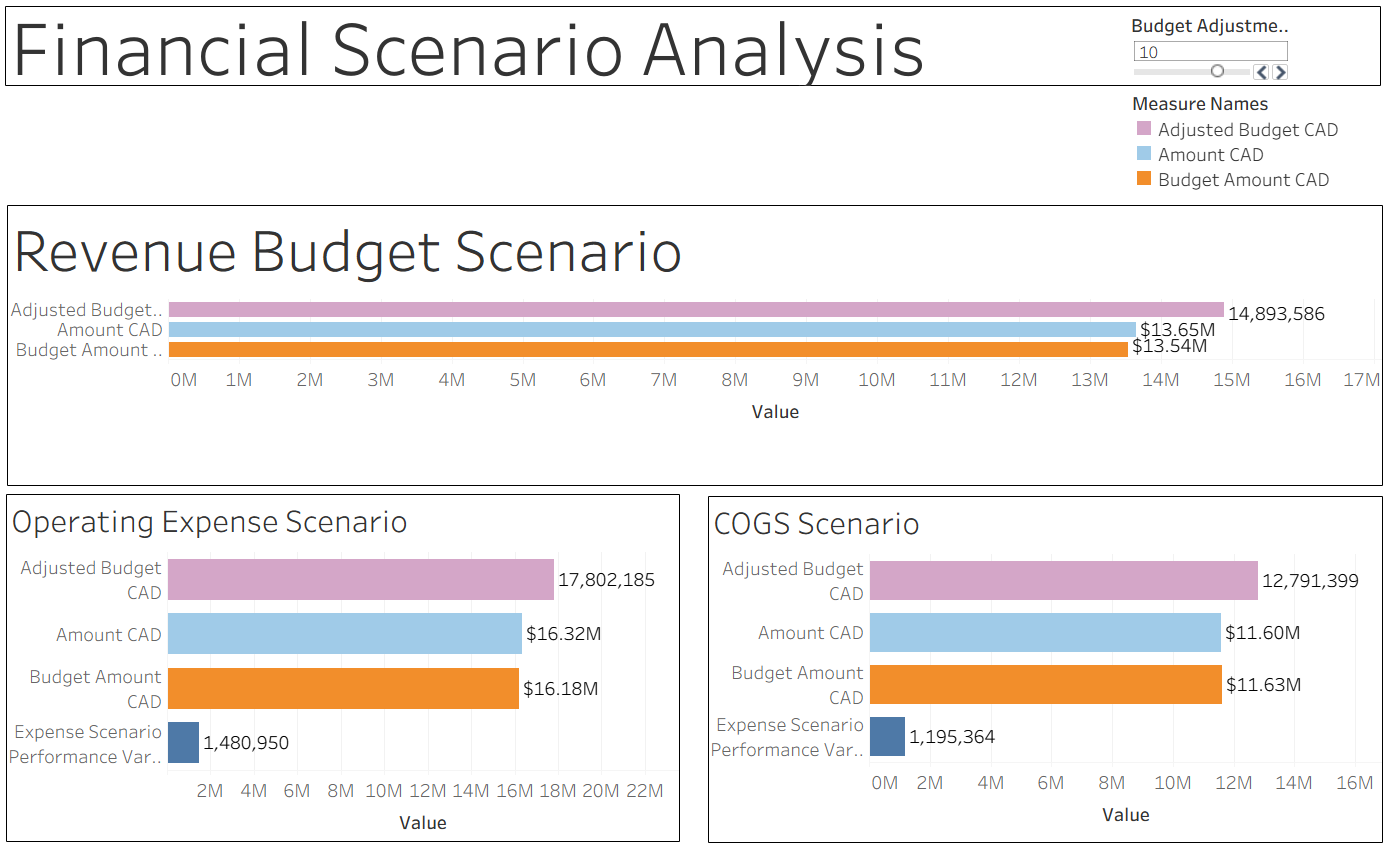

The page's visual inventory and layout, read from the dashboard file:
{"tool":"tableau","page":{"name":"Financial Scenario Analysis","canvas":[1400,900],"ordinal":1},"visuals":[{"type":"title","box":[8,8,1384,88]},{"type":"parameter","param":"[Parameters].[Parameter 1034975112675328]","box":[1138,18,160,75]},{"type":"legend","title":"Revenue Budget Scenario","param":"[federated.0xnzz0p1ky48a018m45p31oo4qw8].[:Measure Names]","box":[1139,96,212,106]},{"type":"worksheet","title":"Revenue Budget Scenario","mark":"Automatic","box":[14,211,1377,281]},{"type":"worksheet","title":"Operating Expense Scenario","mark":"Automatic","box":[13,500,674,348]},{"type":"worksheet","title":"COGS Scenario","mark":"Automatic","box":[715,502,676,347]}]}

Visuals, with their boxes on the page's 1400x900 design canvas (x1, y1, x2, y2). These are canvas units, not pixel positions in the 1387x852 screenshot, which may show the page scaled, cropped or inside an application window:
title: 8/8/1392/96
parameter: 1138/18/1298/93
"Revenue Budget Scenario" legend: 1139/96/1351/202
"Revenue Budget Scenario" worksheet: 14/211/1391/492
"Operating Expense Scenario" worksheet: 13/500/687/848
"COGS Scenario" worksheet: 715/502/1391/849
